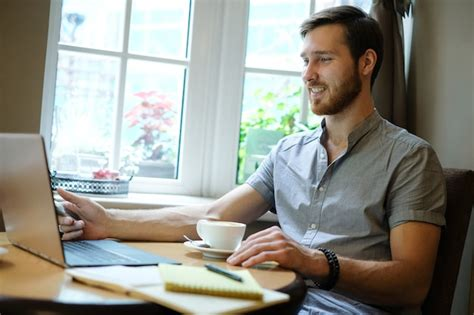homme: (206, 1, 447, 306)
